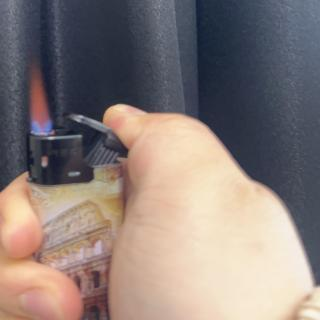fire: (24, 64, 52, 136)
